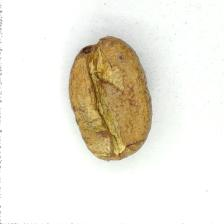NG: (75, 46, 142, 158)
